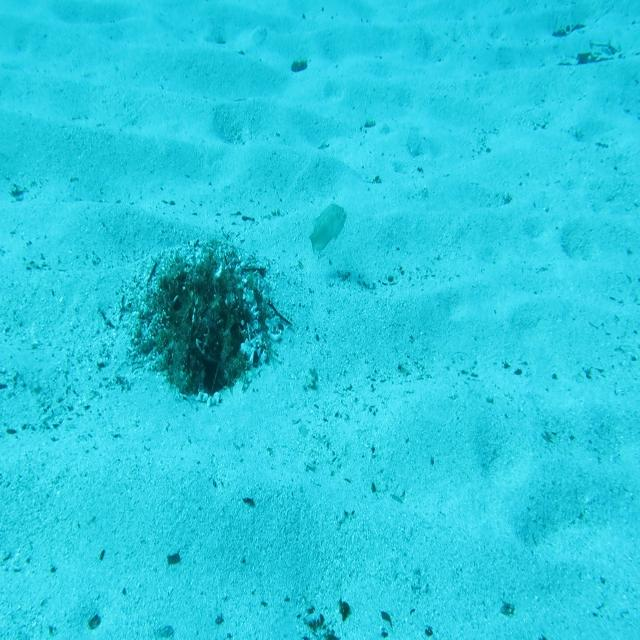MAN: (307, 196, 350, 261)
core_nest: (186, 285, 230, 319)
nest: (138, 237, 288, 408)
